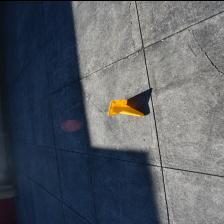cone: (108, 98, 144, 116)
